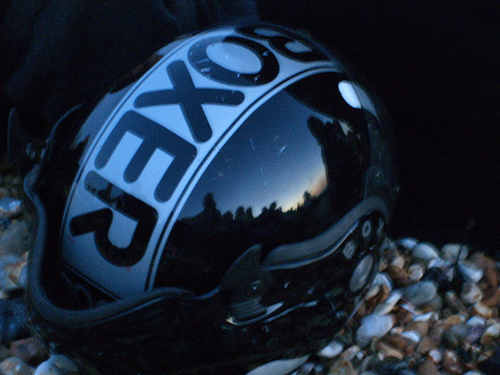helmet: (72, 45, 396, 316)
